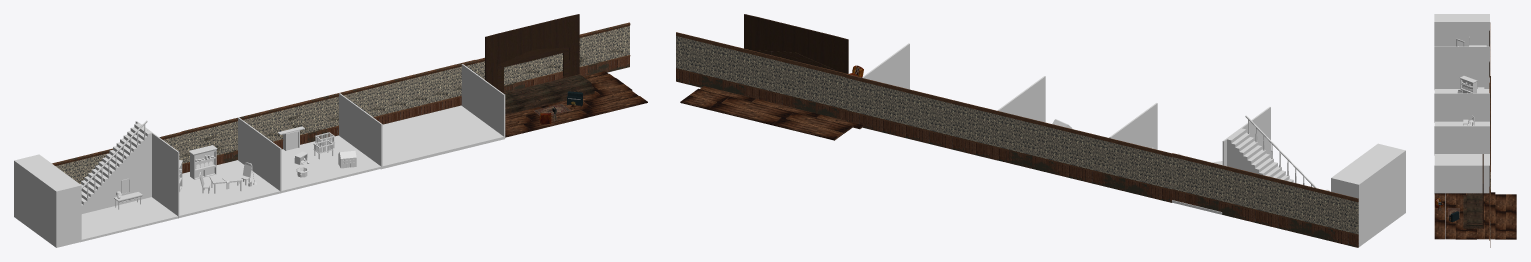
Rendered from House_Level_blockout.glb.
3 views of the same model, side by side, from view 1: azimuth 30°, elevation 25°; view 2: azimuth 150°, elevation 25°; view 3: azimuth 270°, elevation 25° (orthographic). The views are drawn at different scales.
Parts seen in each view (by area): view 1: SM_Entry_Wall, SM_Wall_A.062, SM_Wall_A.170, SM_Wall_A.201, SM_Wall_A.009, SM_Floor, SM_Wall_A.192, SM_Wall_A.007, SM_Wall_A.204, SM_Wall_A.168, SM_Wall_A.005, SM_Wall_A.200 (+16 smaller); view 2: SM_Wall_A.007, SM_Wall_A.001, SM_Wall_A.005, SM_Entry_Wall, SM_Wall_A.002, SM_Wall_A.204, SM_Wall_A.193, SM_Floor.001, SM_Wall_A.201, SM_Wall_A.170, SM_Wall_A.197, SM_Wall_A.196 (+9 smaller); view 3: SM_Wall_A.194, SM_Entry_Wall, SM_Floor.001, SM_Wall_A.200, SM_Wall_A.197, SM_Wall_A.198, SM_Floor, SM_Stage_BaseTest, SM_Wall_A.062, SM_Wall_A.043, SM_Wall_A.192, SM_Wall_A.009 (+6 smaller).
Boxes of the visible parts, x1,y1,x2,y2 form: SM_Entry_Wall: [14, 154, 81, 247]; SM_Wall_A.062: [381, 105, 504, 169]; SM_Wall_A.170: [80, 123, 151, 213]; SM_Wall_A.201: [485, 14, 579, 88]; SM_Wall_A.009: [179, 160, 280, 217]; SM_Floor: [505, 78, 647, 137]; SM_Wall_A.192: [281, 135, 381, 192]; SM_Wall_A.007: [265, 90, 349, 149]; SM_Wall_A.204: [546, 22, 630, 82]; SM_Wall_A.168: [80, 197, 177, 242]; SM_Wall_A.005: [181, 111, 265, 173]; SM_Wall_A.200: [461, 64, 505, 138]; SM_Wall_A.007: [985, 108, 1078, 180]; SM_Wall_A.001: [1265, 176, 1358, 247]; SM_Wall_A.005: [1079, 131, 1172, 202]; SM_Entry_Wall: [1331, 143, 1405, 246]; SM_Wall_A.002: [1172, 153, 1265, 224]; SM_Wall_A.204: [676, 32, 768, 101]; SM_Wall_A.193: [769, 55, 862, 120]; SM_Floor.001: [680, 86, 863, 140]; SM_Wall_A.201: [744, 14, 848, 73]; SM_Wall_A.170: [1227, 128, 1293, 182]; SM_Wall_A.197: [1109, 103, 1157, 149]; SM_Wall_A.196: [962, 102, 985, 157]; SM_Wall_A.194: [1434, 46, 1489, 89]; SM_Entry_Wall: [1434, 14, 1489, 46]; SM_Floor.001: [1477, 192, 1516, 239]; SM_Wall_A.200: [1434, 165, 1489, 193]; SM_Wall_A.197: [1434, 93, 1489, 122]; SM_Wall_A.198: [1434, 126, 1489, 155]; SM_Floor: [1434, 193, 1476, 239]; SM_Stage_BaseTest: [1463, 193, 1482, 228]; SM_Wall_A.062: [1434, 154, 1489, 165]; SM_Wall_A.043: [1460, 76, 1477, 93]; SM_Wall_A.192: [1434, 121, 1489, 125]; SM_Wall_A.009: [1434, 89, 1489, 93].
Size of the model in its own units: 88.04 by 10.94 by 15.52.
12 materials, 12 textured.
